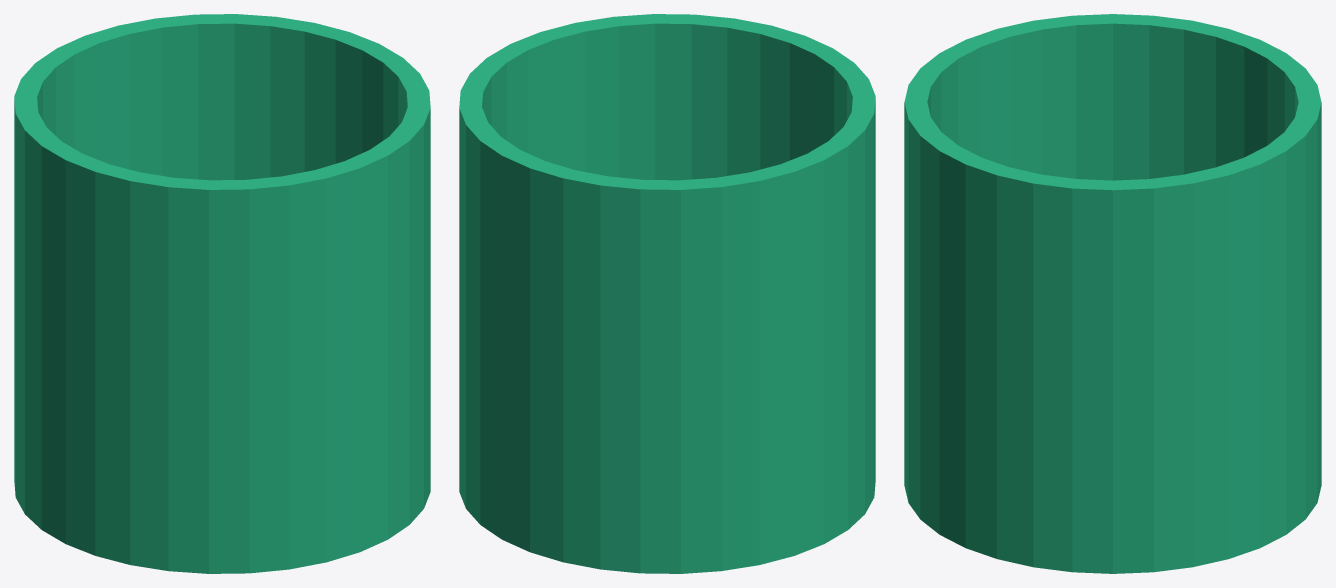
File: bucketfbx.fbx
The picture shows the model from 3 angles, left to right: view 1: azimuth 30°, elevation 25°; view 2: azimuth 150°, elevation 25°; view 3: azimuth 270°, elevation 25°; orthographic projection.
Visible parts, largest first — view 1: Cylinder.001; view 2: Cylinder.001; view 3: Cylinder.001.
Boxes of the visible parts, <box> form: Cylinder.001: <box>14,14,430,573</box>; Cylinder.001: <box>459,14,875,573</box>; Cylinder.001: <box>904,14,1321,573</box>.
Size of the model in its own units: 200 by 203 by 200.
